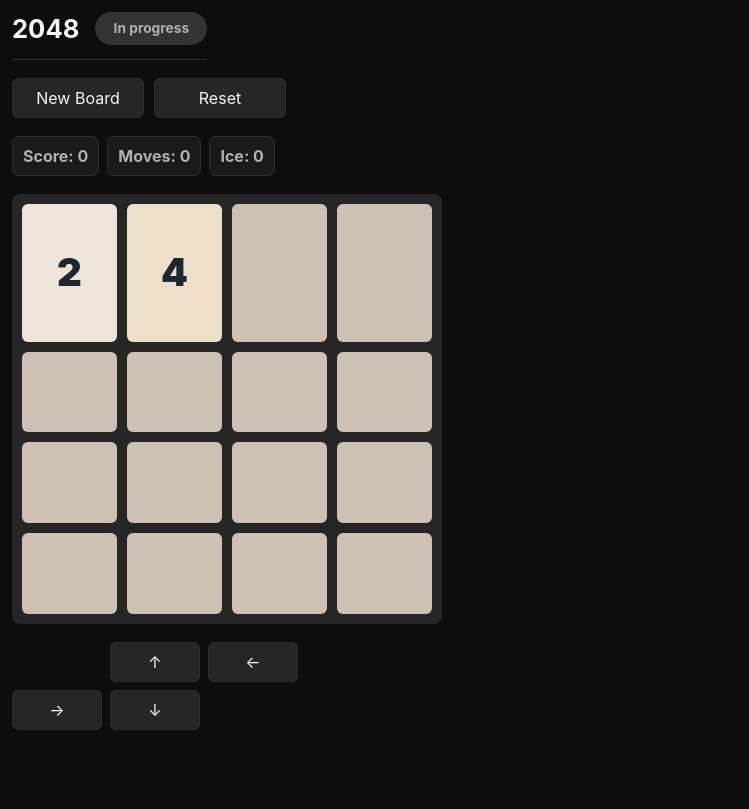
Test: Area 1 - network failure during mutating actions › move failure: error surfaced, busy cleared, board unchanged
Click the button "↑" at (155, 662), box x1=110 y1=642 x2=200 y2=682
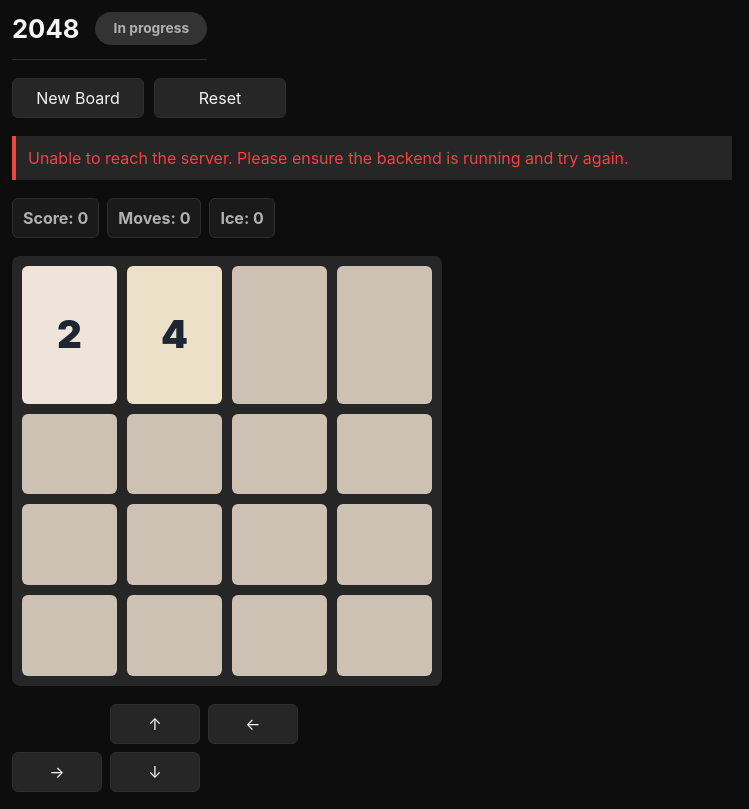
Expected: the button "↑" is enabled, x1=110 y1=704 x2=200 y2=744
Result: the message is shown at x1=12 y1=136 x2=732 y2=180
Result: the message reads "Unable to reach the server. Please ensure the backend is running and try again." at x1=28 y1=148 x2=629 y2=168
